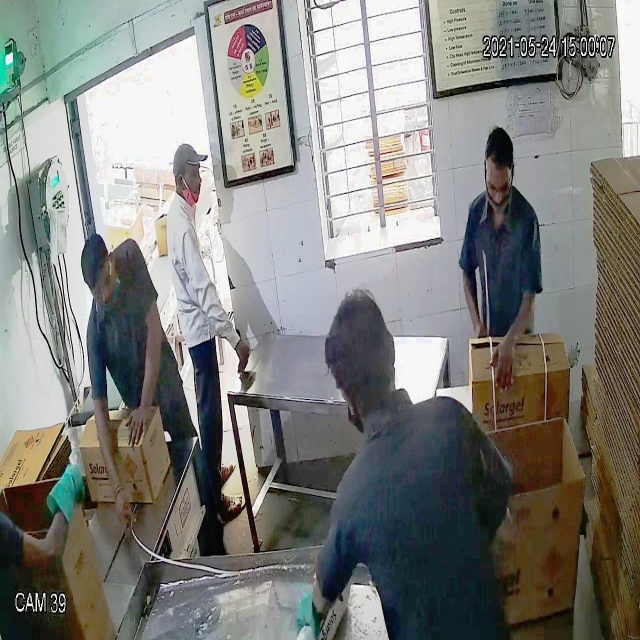Gafas: (83, 263, 117, 300)
